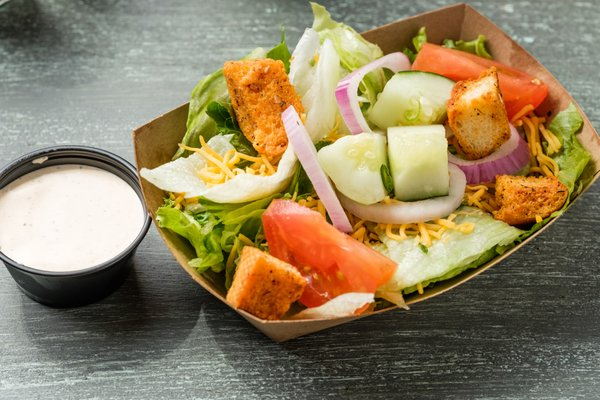sushi: (139, 4, 595, 343), (0, 146, 150, 307)
